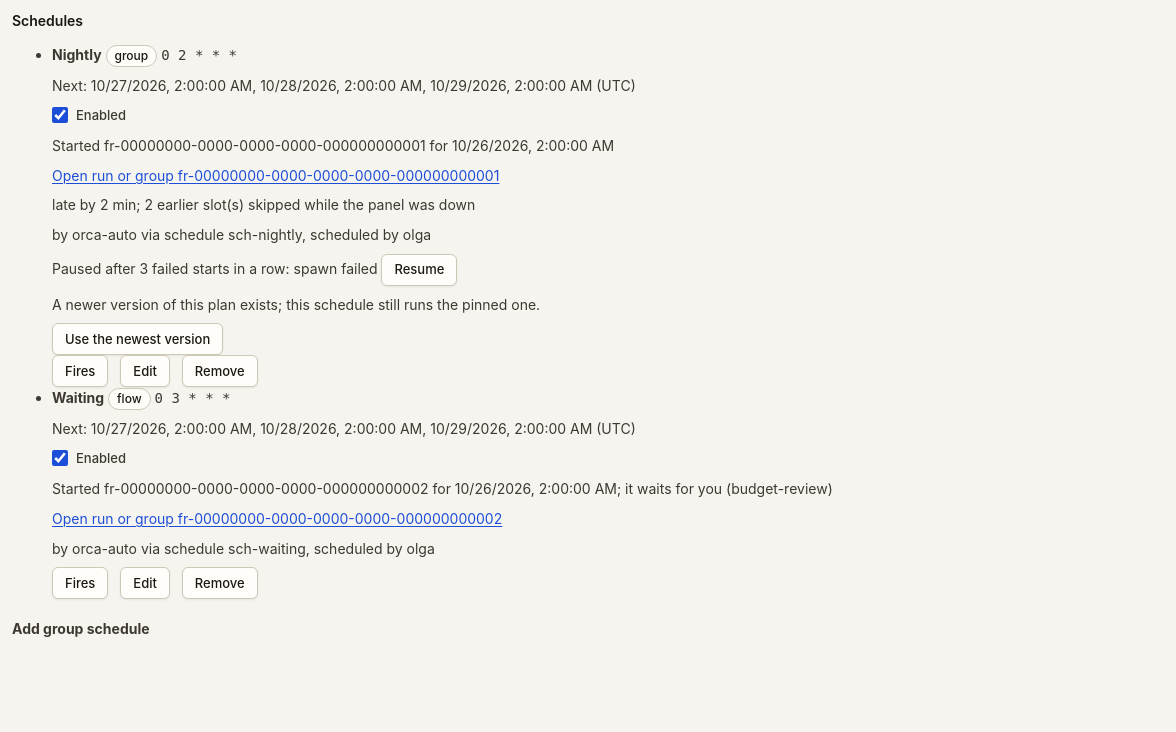
Test: the project's schedules (spec §13.3, C13) › disables Save for an edit that changes nothing
expect the list item with test id "schedule-sch-nightly" is shown: met, box [52, 45, 636, 388]
Click the button "Edit" below "0 2 * * *".
click(145, 372)  # box [120, 356, 170, 388]
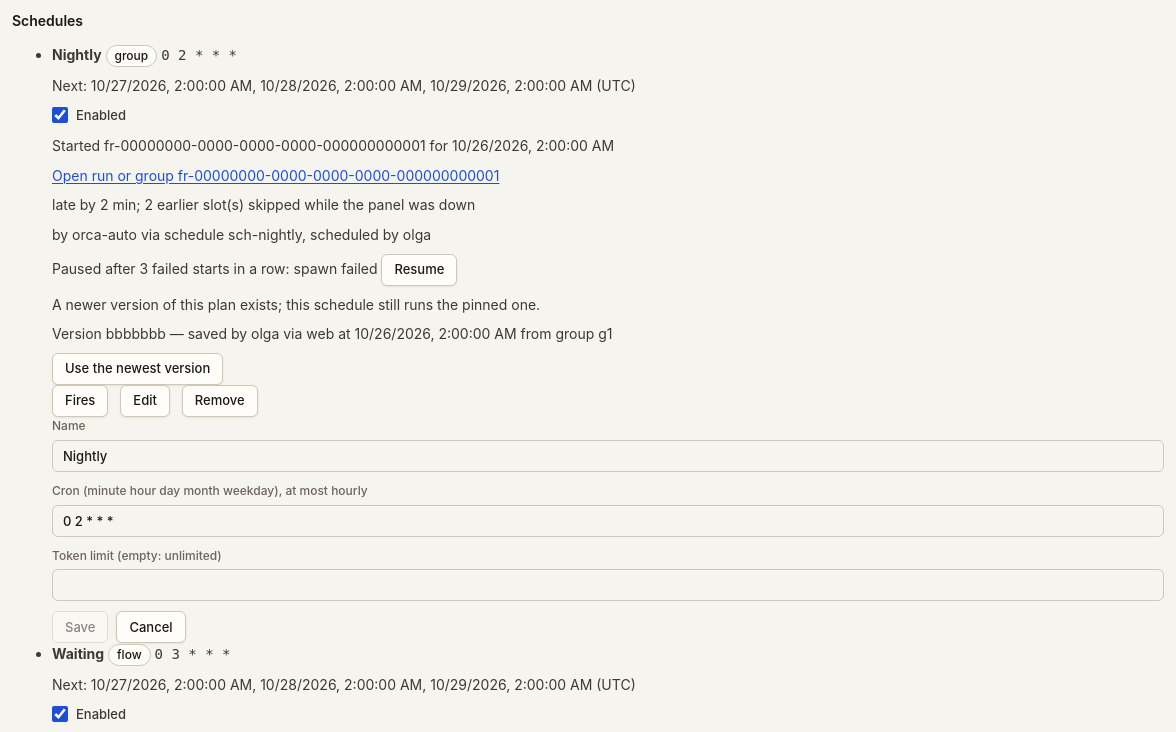
expect the button "Save" is disabled: met, box [52, 612, 108, 644]
Replace the text in the field labelled "Name" with "Nightly two" at (608, 456), box [52, 440, 1164, 472]
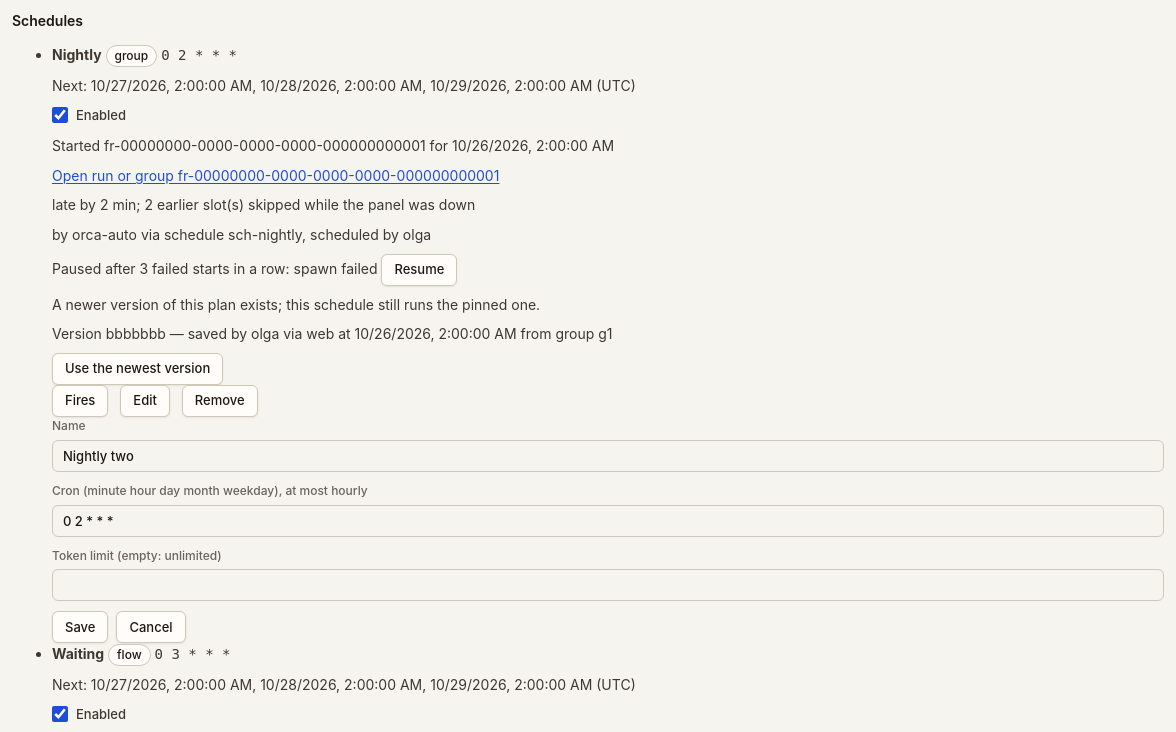
expect the button "Save" is enabled: met, box [52, 612, 108, 644]
